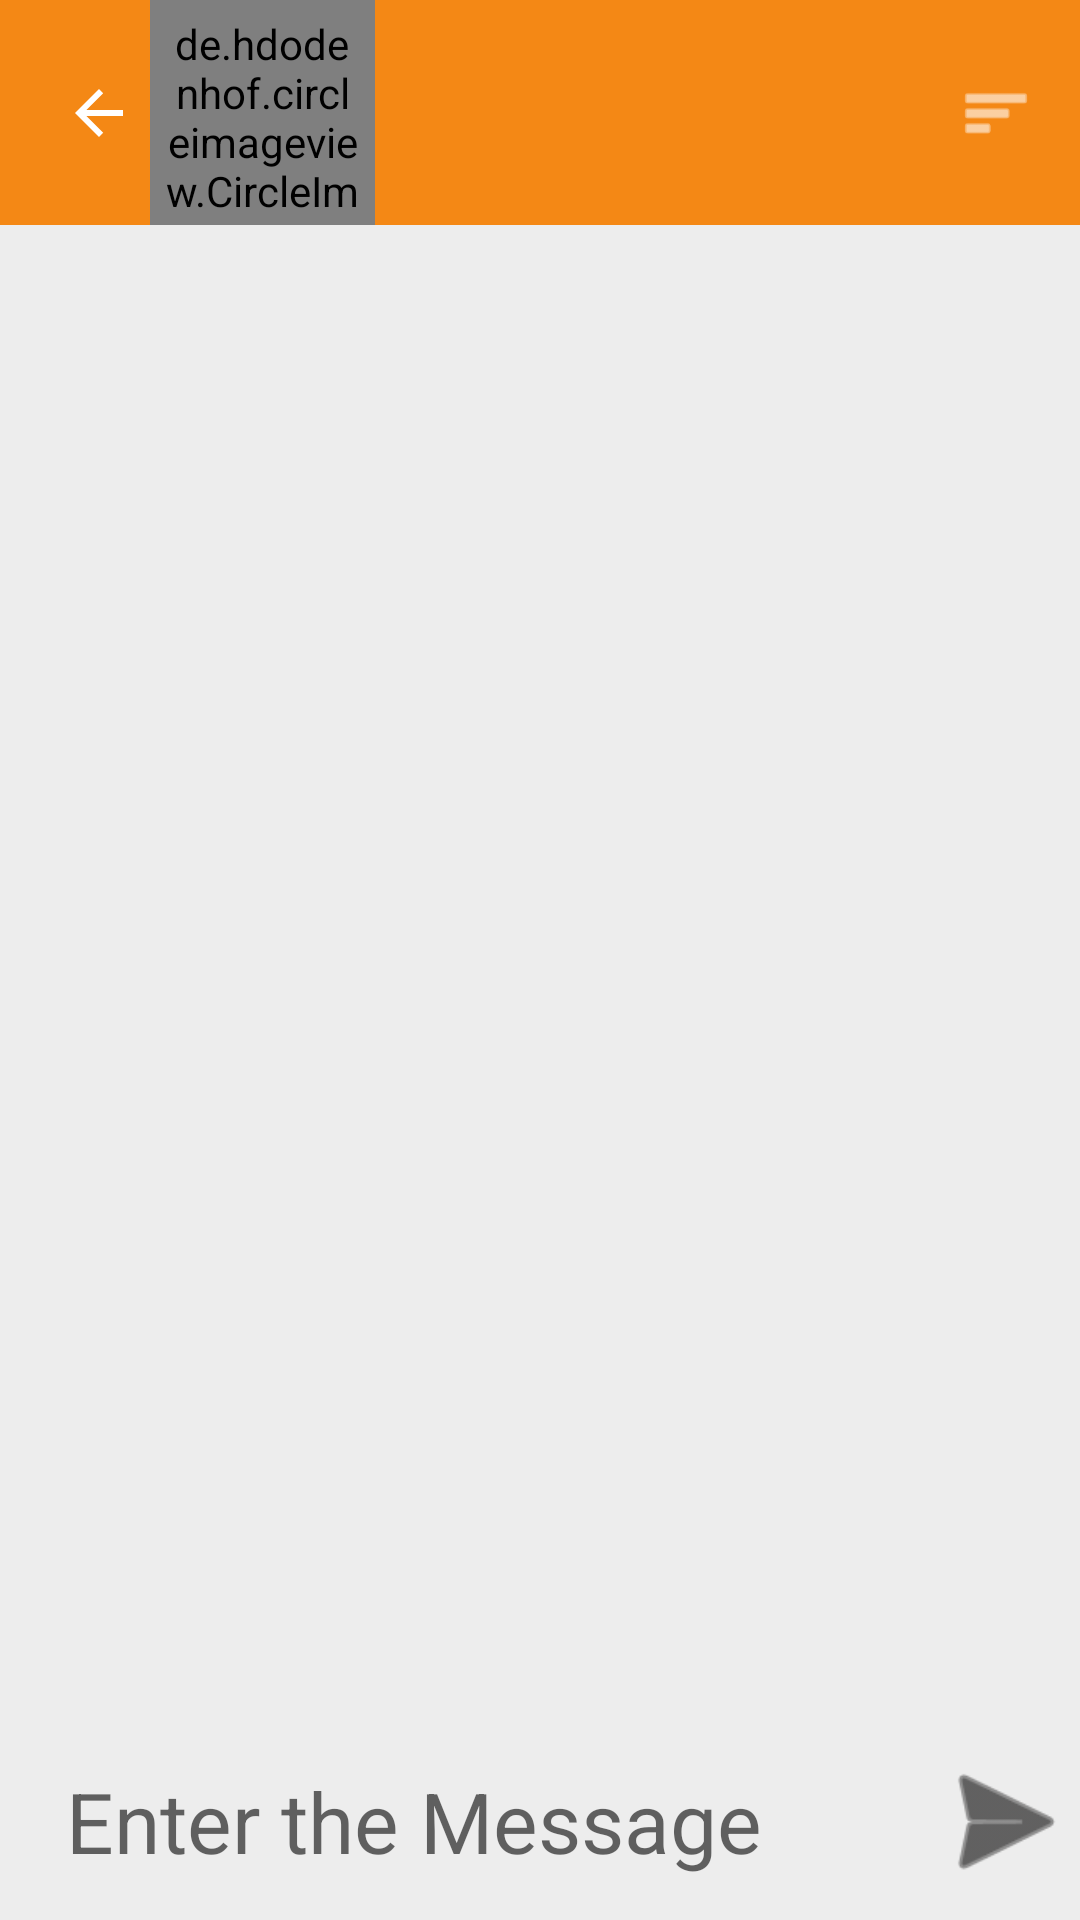

Screen size 1080w x 1920h. Icon name, then its box in pixels as (x1, y1, x2, y2):
send: (958, 1774, 1054, 1869)
sort by size: (965, 93, 1027, 134)
